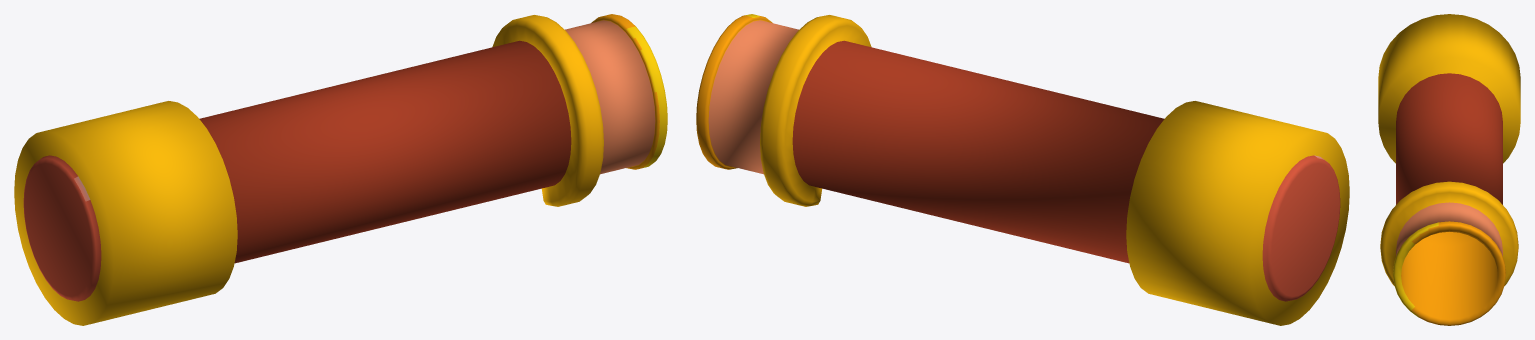
The model's file is MeteorShooterHead.fbx.
3 renders of one model, left to right at view 1: azimuth 30°, elevation 25°; view 2: azimuth 150°, elevation 25°; view 3: azimuth 270°, elevation 25°, orthographic. The views are drawn at different scales.
Visible parts, largest first — view 1: Head; view 2: Head; view 3: Head.
Part boxes in pixels (x1=…): Head: x1=14, y1=14, x2=667, y2=325; Head: x1=696, y1=14, x2=1349, y2=325; Head: x1=1378, y1=14, x2=1520, y2=325.
Size of the model in its own units: 4.59 by 1.39 by 1.39.
